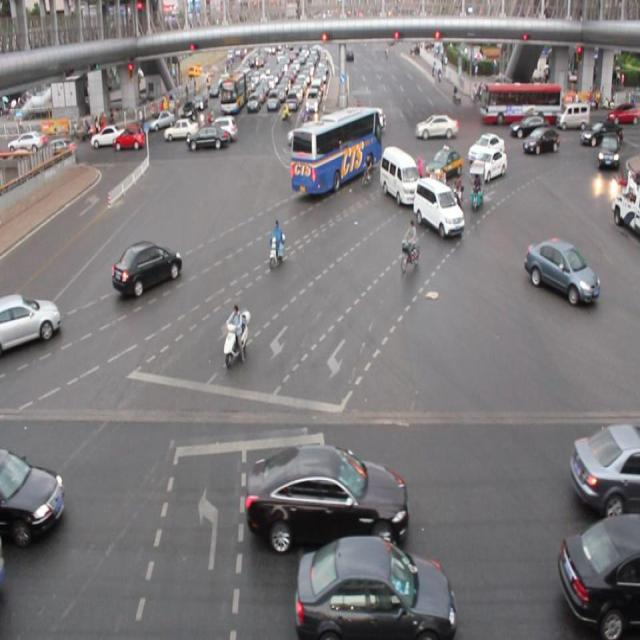car: (243, 443, 410, 549), (294, 534, 457, 640), (557, 514, 640, 631), (567, 416, 640, 512), (1, 449, 64, 538), (523, 235, 598, 303), (109, 239, 182, 293), (1, 291, 61, 355), (287, 118, 324, 150), (415, 114, 458, 141), (423, 146, 460, 177), (466, 131, 503, 161), (521, 125, 556, 155), (471, 152, 506, 181), (186, 128, 228, 151), (115, 128, 144, 152)
truck: (413, 179, 463, 236), (379, 147, 417, 205)
van: (293, 105, 380, 191)
